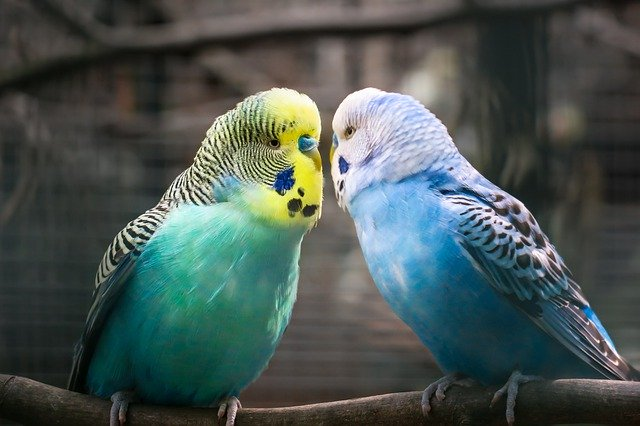budgie: (328, 84, 628, 410), (66, 85, 325, 426)
